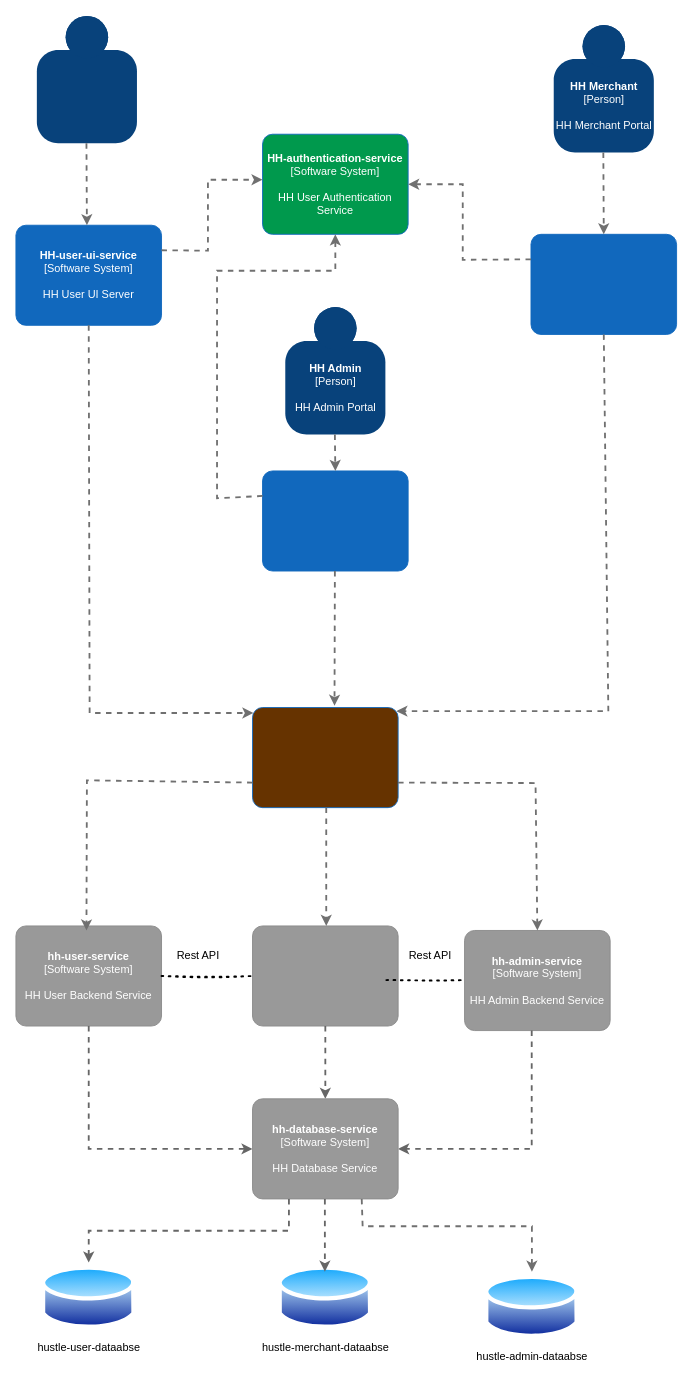
Image size: 693x1379. Some labels were removed from this diagram. Here are the shapes that lost their labels. From the top down, the centre of each, then its label:
(86,79): HH User [Person] Interact with HH User UI
(603,283): HH-merchant-ui-service [Software System] HH Merchant Portal UI
(335,520): HH-admin-ui-service [Software System] HH Admin Portal UI
(325,757): HH-API-Gateway [Software System] HH API Gateway
(325,975): hh-merchant-service [Software System] HH Merchant Backend Service
